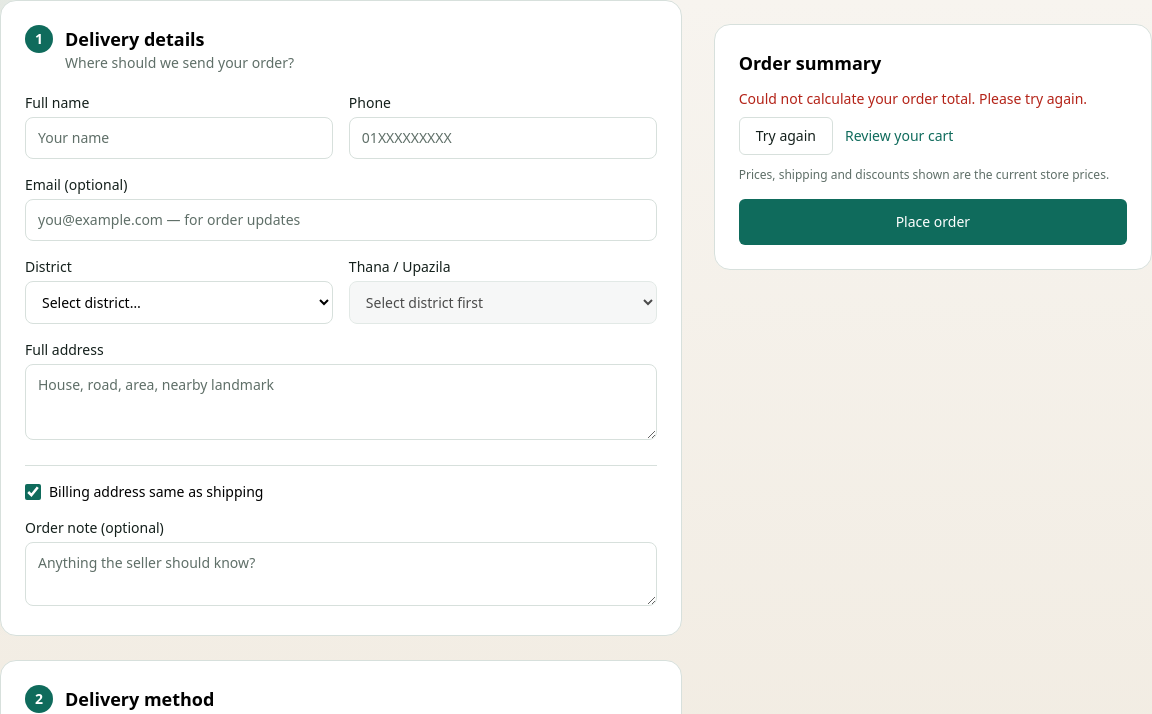
Scenario: CheckoutForm — quote lifecycle › lets the customer retry after the quote request fails
Check: the text "Could not calculate your order total. Please try again." is shown, box [739,89,1127,109]
Click the button "Try again": coordinates (786, 136) [739,117,833,155]
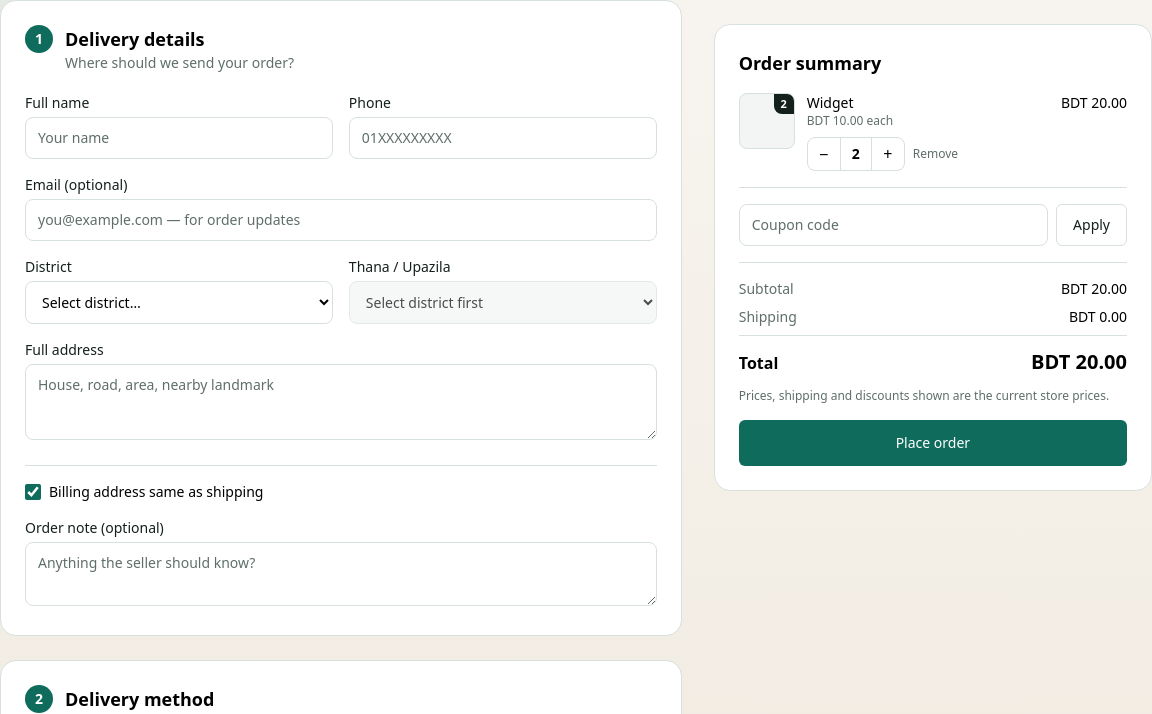
Check: the text "Total" is shown, box [739,351,778,375]
Check: the text "Total BDT 20.00" is shown, box [739,335,1127,376]
